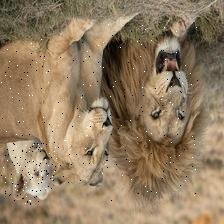Lion: (104, 22, 199, 201), (0, 38, 115, 185), (6, 143, 57, 205)
